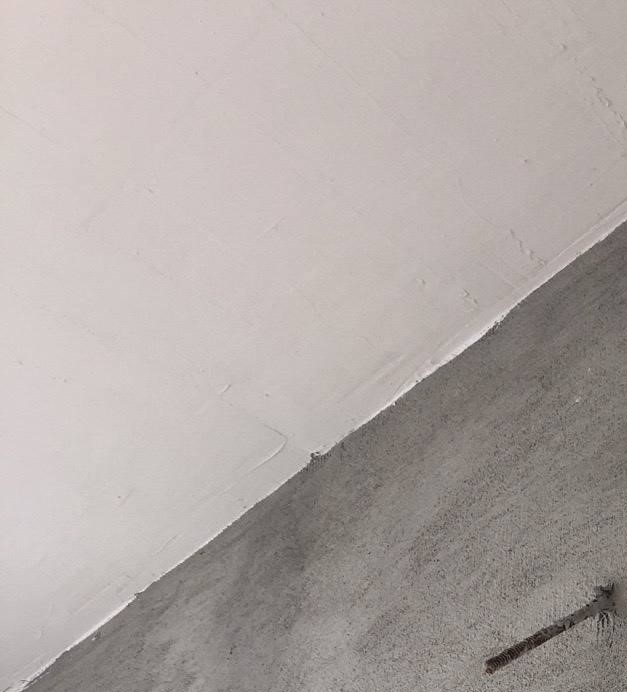Exposed reinforcement: (482, 585, 615, 678)
